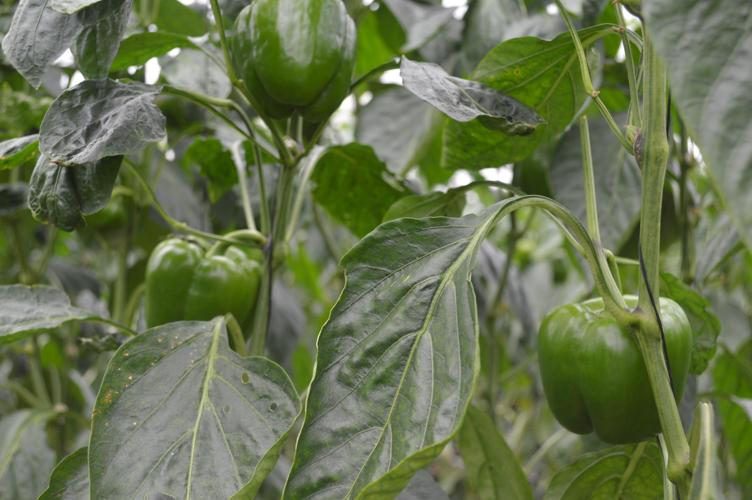BellPepper: (535, 276, 696, 487), (214, 2, 361, 119), (137, 233, 269, 340)
